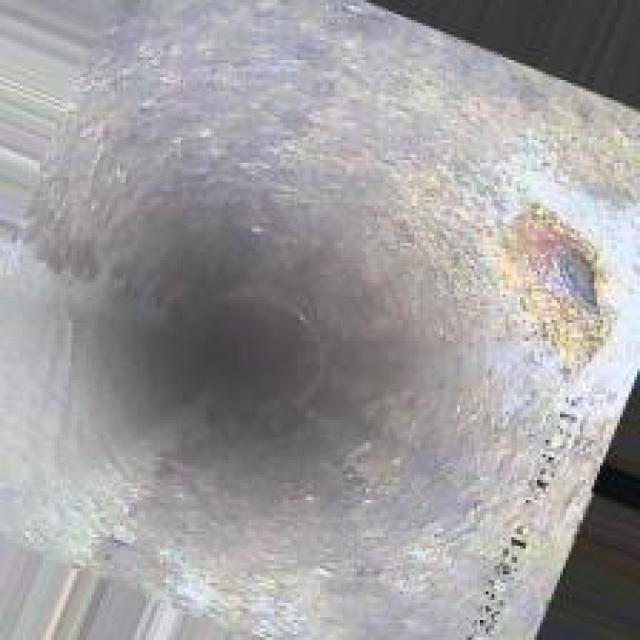ferrule: (512, 217, 617, 346)
